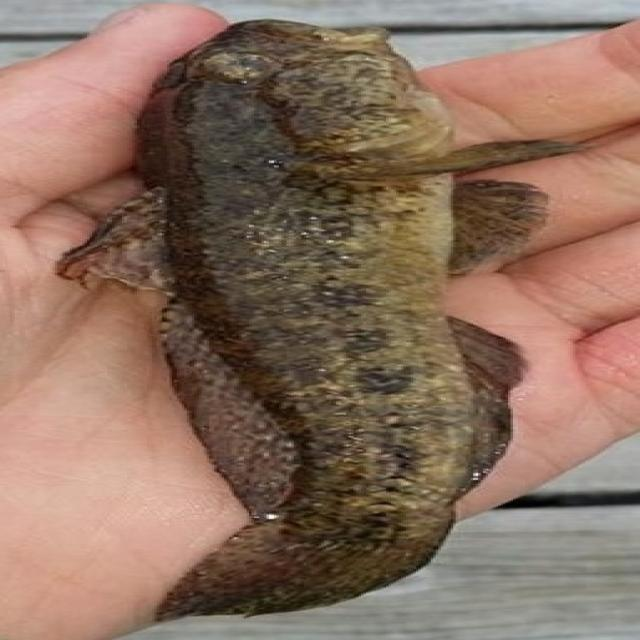Goby: (41, 0, 640, 640)
